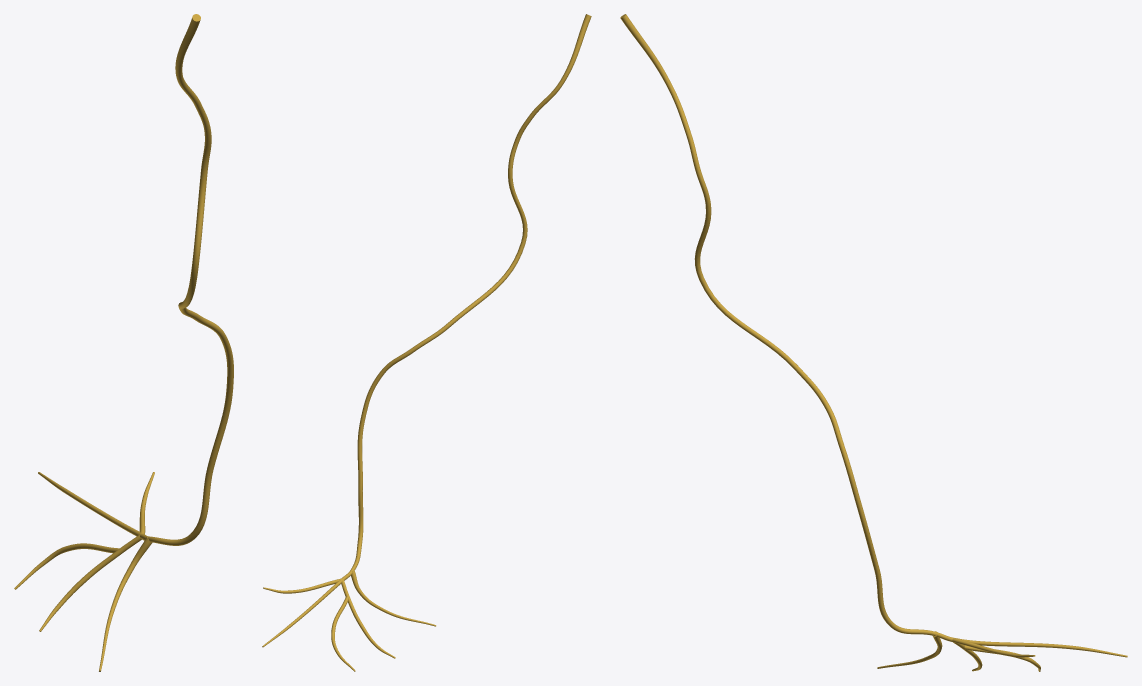
3 renders of one model, left to right at view 1: azimuth 30°, elevation 25°; view 2: azimuth 150°, elevation 25°; view 3: azimuth 270°, elevation 25°, orthographic. The views are drawn at different scales.
Visible parts, largest first — view 1: 左侧上颌神经; view 2: 左侧上颌神经; view 3: 左侧上颌神经.
Part boxes in pixels (x1,y1,x2,y2): 左侧上颌神经: (14,14,233,671); 左侧上颌神经: (262,14,591,671); 左侧上颌神经: (620,14,1127,671).
Bounding box in the file's own units: 0.033 × 0.1138 × 0.0827.
